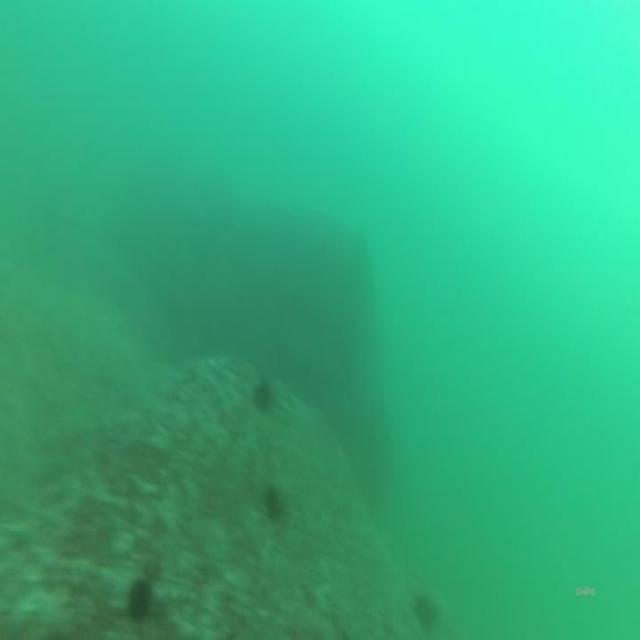echinus: (411, 584, 441, 640), (124, 574, 154, 624), (261, 479, 287, 529), (252, 374, 274, 416)
